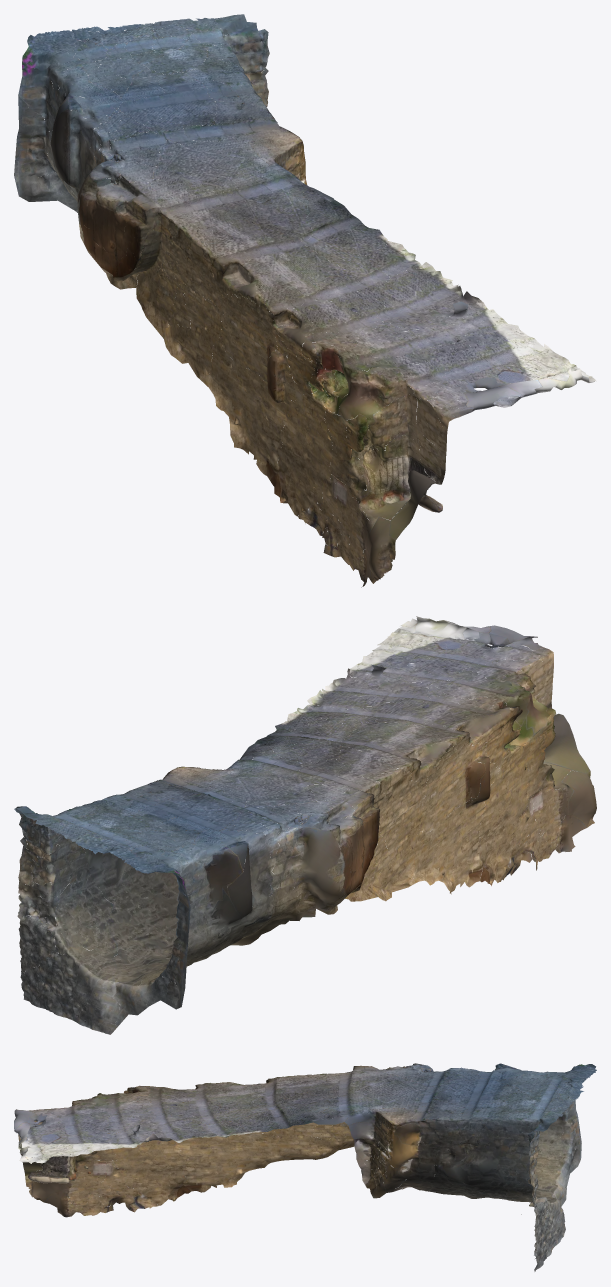
File: village-archway.glb
The picture shows the model from 3 angles, top to bottom: view 1: azimuth 30°, elevation 25°; view 2: azimuth 150°, elevation 25°; view 3: azimuth 270°, elevation 25°; orthographic projection. The views are drawn at different scales.
Visible parts, largest first — view 1: Model; view 2: Model; view 3: Model.
Part boxes in pixels (<box>): Model: <box>14,14,595,587</box>; Model: <box>14,616,596,1034</box>; Model: <box>14,1063,596,1271</box>.
Size of the model in its own units: 9.62 by 8.49 by 26.18.
Materials: 1 (1 with a texture image).
